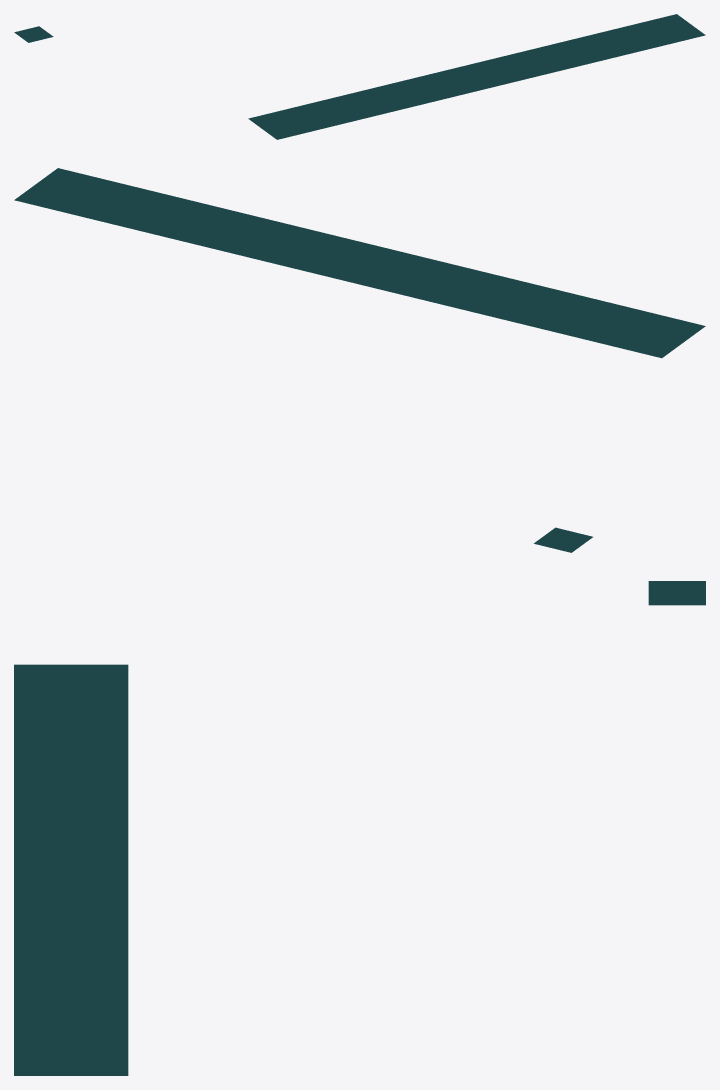
The model's file is sm_Cintafloor.fbx.
3 renders of one model, top to bottom at view 1: azimuth 30°, elevation 25°; view 2: azimuth 150°, elevation 25°; view 3: azimuth 270°, elevation 25°, orthographic. The views are drawn at different scales.
Parts seen in each view (by area): view 1: sm_CintaFloor00__2_, sm_CintaFloor01, sm_CintaFloor06, sm_CintaFloor00__8_, sm_CintaFloor01__8_, sm_CintaFloor01__6_, sm_CintaFloor01__4_, sm_CintaFloor01__3_, sm_CintaFloor01__2_, sm_CintaFloor00__1_, sm_CintaFloor00, sm_CintaFloor02 (+23 smaller); view 2: sm_CintaFloor05, sm_CintaFloor10, sm_CintaFloor13, sm_CintaFloor00__6_, sm_CintaFloor01__5_, sm_CintaFloor01__4_, sm_CintaFloor01__2_, sm_CintaFloor00__2_, sm_CintaFloor00__1_, sm_CintaFloor01__1_, sm_CintaFloor00, sm_CintaFloor03 (+23 smaller); view 3: sm_CintaFloor01, sm_CintaFloor00, sm_CintaFloor10, sm_CintaFloor11, sm_CintaFloor01__6_, sm_CintaFloor00__6_, sm_CintaFloor00__4_, sm_CintaFloor01__4_, sm_CintaFloor01__2_, sm_CintaFloor00__2_, sm_CintaFloor00__1_, sm_CintaFloor01__1_ (+23 smaller).
Boxes of the visible parts, x1,y1,x2,y2 form: sm_CintaFloor00__2_: (313,111,352,127); sm_CintaFloor01: (349,88,388,104); sm_CintaFloor06: (439,80,478,96); sm_CintaFloor00__8_: (565,49,604,65); sm_CintaFloor01__8_: (551,38,589,55); sm_CintaFloor01__6_: (601,26,640,42); sm_CintaFloor01__4_: (248,112,287,129); sm_CintaFloor01__3_: (273,106,312,122); sm_CintaFloor01__2_: (299,100,337,116); sm_CintaFloor00__1_: (338,104,377,121); sm_CintaFloor00: (364,98,402,115); sm_CintaFloor02: (389,92,427,108); sm_CintaFloor05: (395,277,454,302); sm_CintaFloor10: (303,233,362,258); sm_CintaFloor13: (243,240,302,265); sm_CintaFloor00__6_: (112,186,171,211); sm_CintaFloor01__5_: (52,193,111,218); sm_CintaFloor01__4_: (624,333,683,358); sm_CintaFloor01__2_: (548,314,607,339); sm_CintaFloor00__2_: (570,298,629,323); sm_CintaFloor00__1_: (532,289,591,314); sm_CintaFloor01__1_: (510,305,568,330); sm_CintaFloor00: (493,279,552,304); sm_CintaFloor03: (433,286,492,311); sm_CintaFloor01: (71,761,128,785); sm_CintaFloor00: (14,761,71,785); sm_CintaFloor10: (14,882,71,906); sm_CintaFloor11: (71,882,128,906); sm_CintaFloor01__6_: (71,1003,128,1027); sm_CintaFloor00__6_: (14,1003,71,1027); sm_CintaFloor00__4_: (14,664,71,688); sm_CintaFloor01__4_: (71,664,128,688); sm_CintaFloor01__2_: (71,713,128,737); sm_CintaFloor00__2_: (14,713,71,737); sm_CintaFloor00__1_: (14,737,71,761); sm_CintaFloor01__1_: (71,737,128,761).
Size of the model in its own units: 4091 by 3.81e-05 by 2418.
